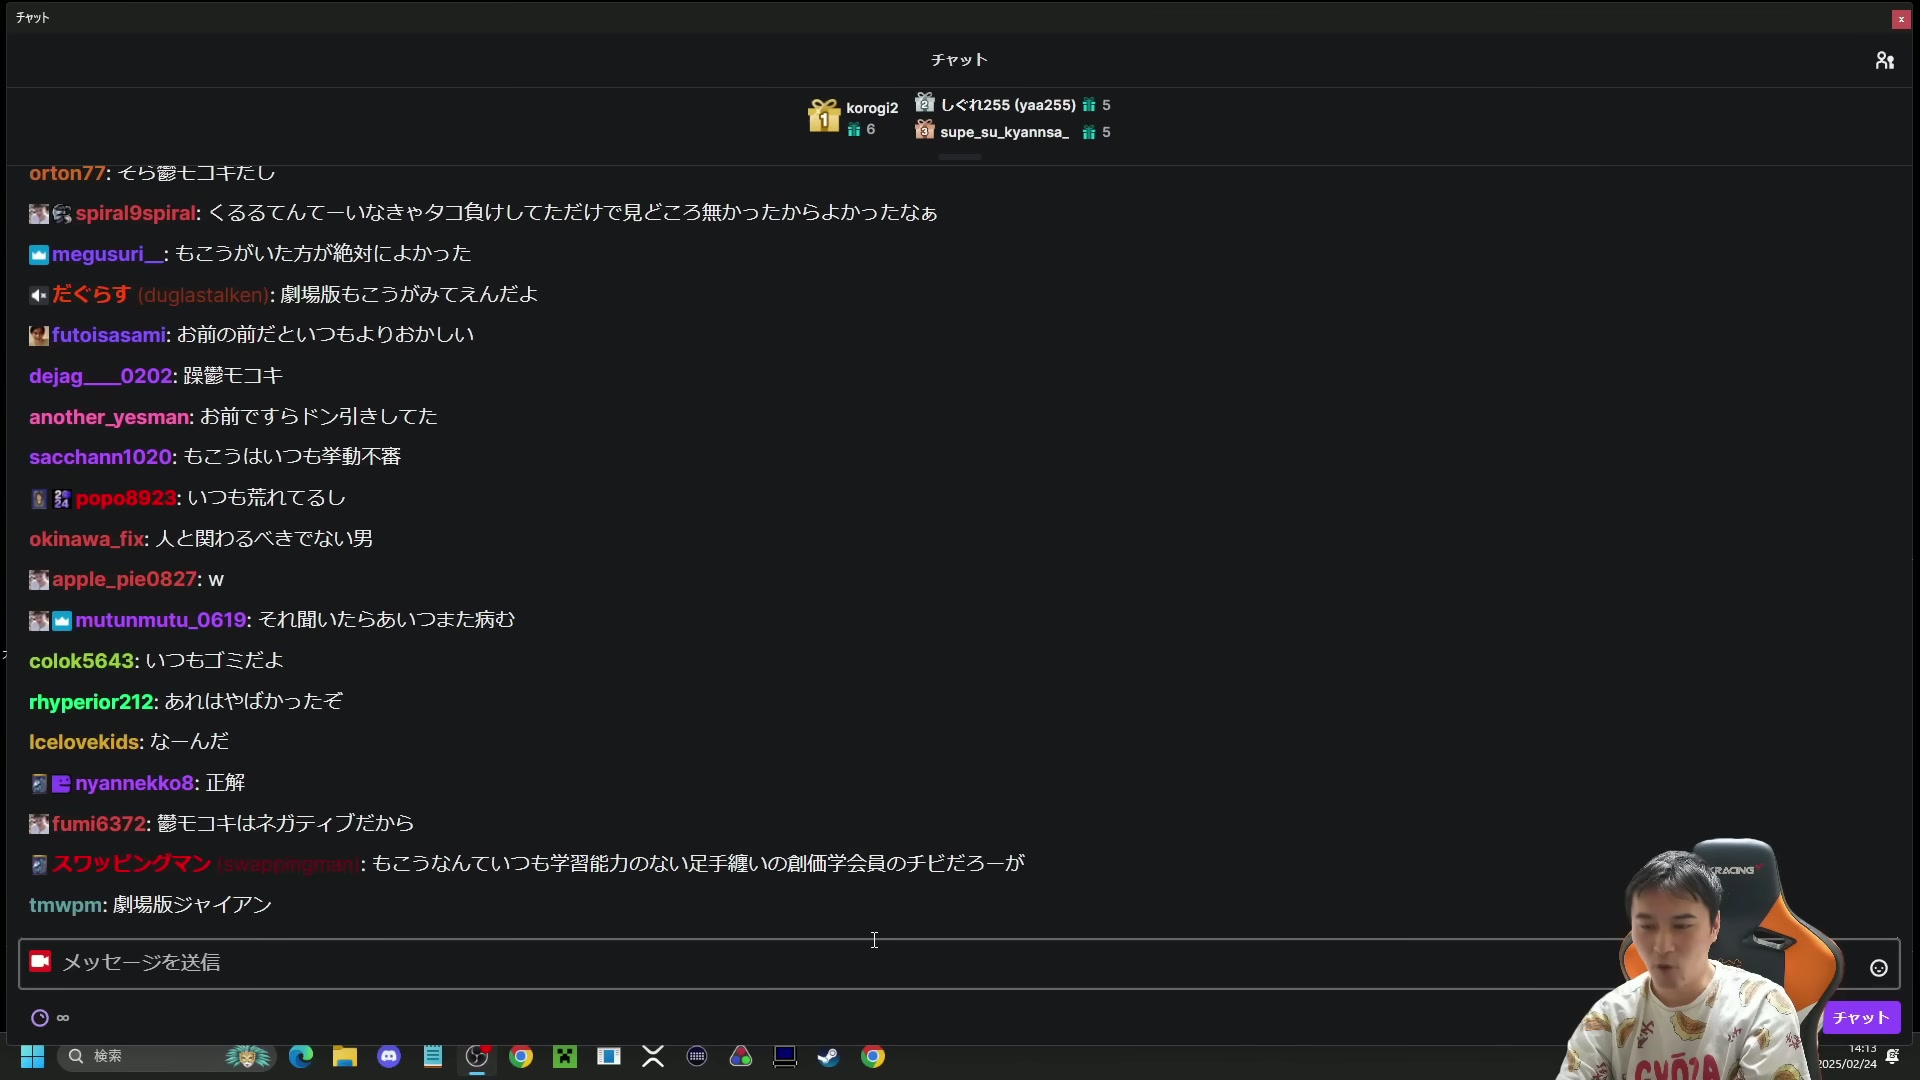stream_tag: (1555, 836, 1842, 1080)
